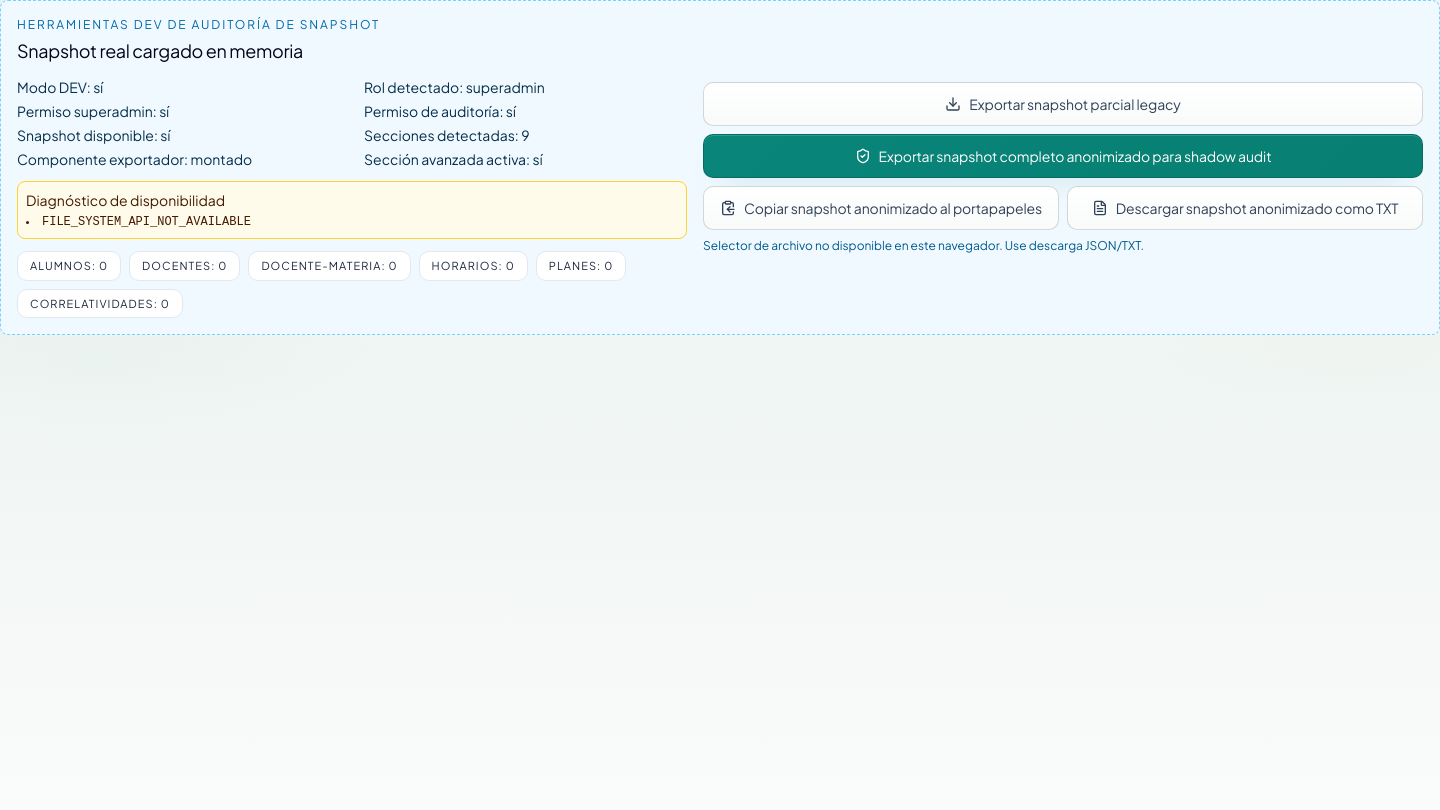
Test: DevAuditSnapshotExport › descarga el snapshot completo anonimizado desde la vista DEV
What coordinates should you click on to do the following:
click the button "Exportar snapshot completo anonimizado para shadow audit"
I would click on:
 (1063, 156)
Its box is x1=703 y1=134 x2=1423 y2=178.
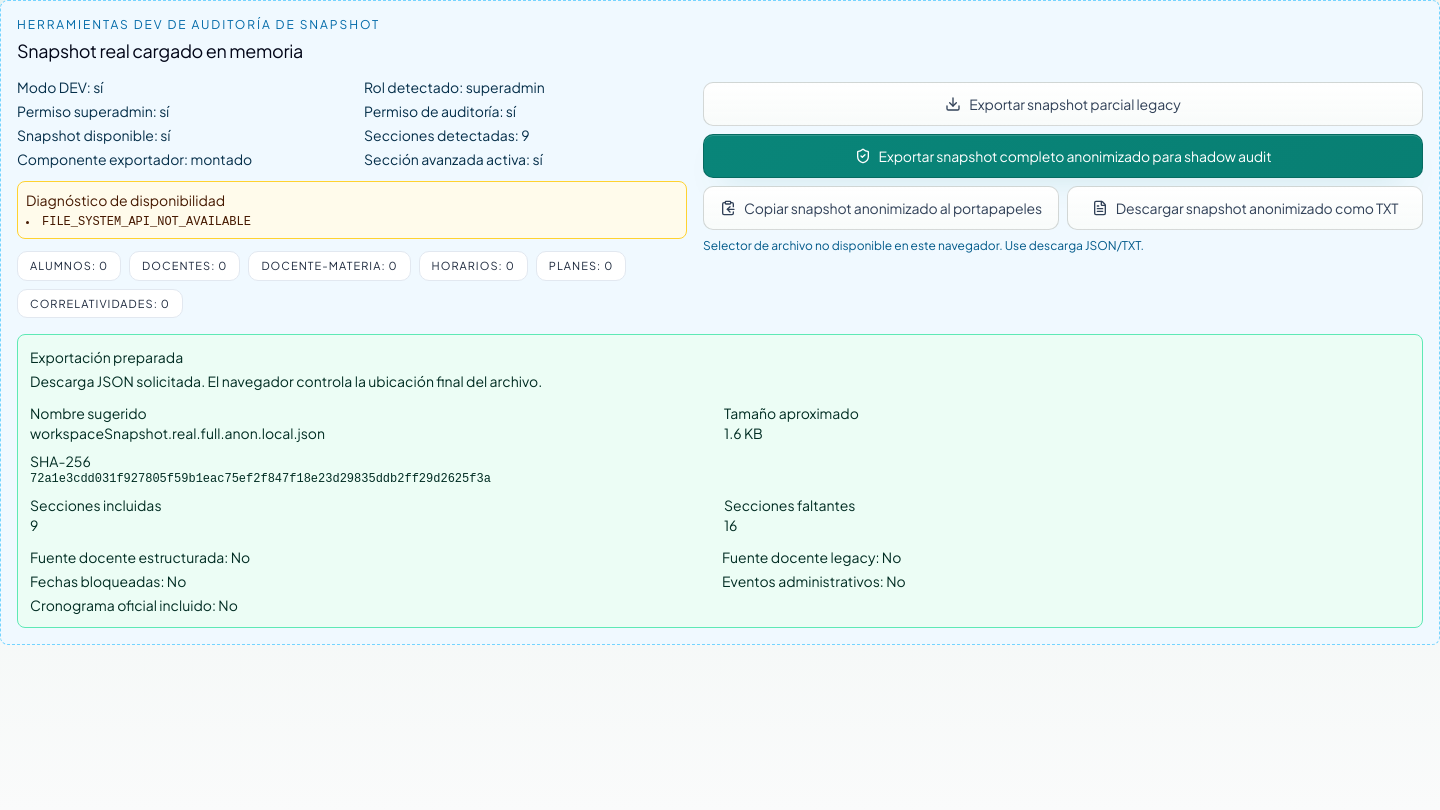
Now the text "Exportación preparada" is shown, box x1=30 y1=348 x2=183 y2=366
Now the text "workspaceSnapshot.real.full.anon.local.json" is shown, box x1=30 y1=424 x2=325 y2=442
Now the list item "Fuente docente estructurada: No" is shown, box x1=30 y1=548 x2=250 y2=566
